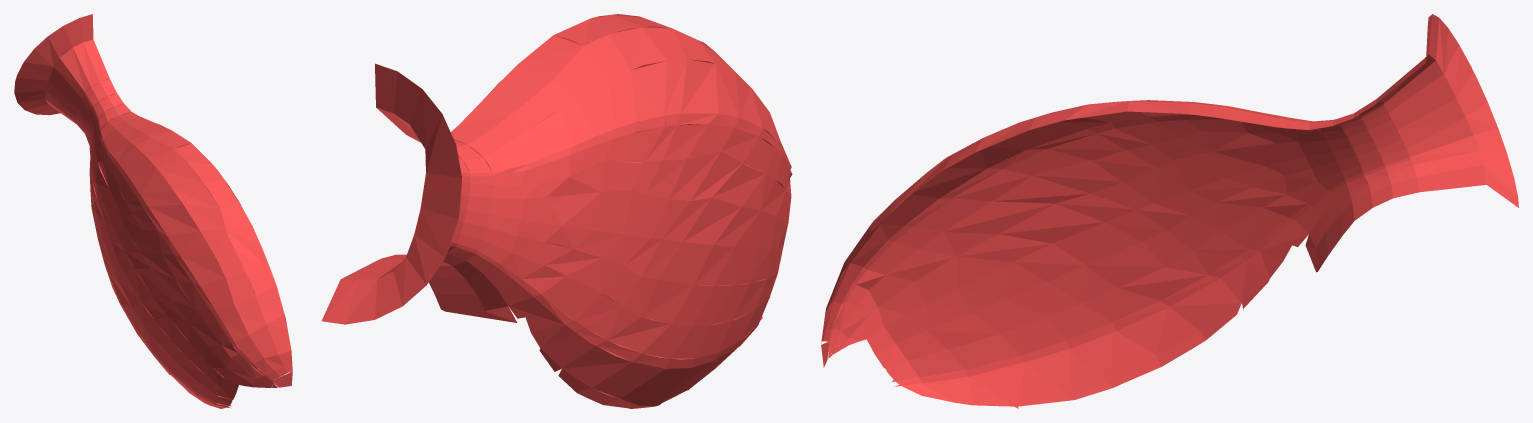
File: tranceporter.dae
The picture shows the model from 3 angles, left to right: view 1: azimuth 30°, elevation 25°; view 2: azimuth 150°, elevation 25°; view 3: azimuth 270°, elevation 25°; orthographic projection. The views are drawn at different scales.
Parts seen in each view (by area): view 1: group_0; view 2: group_0; view 3: group_0.
Part boxes in pixels (box(x1,y1,x2,y2)): group_0: box(14, 14, 292, 408); group_0: box(322, 14, 792, 408); group_0: box(821, 14, 1518, 408).
Bounding box in the file's own units: 66.25 × 407 × 265.
